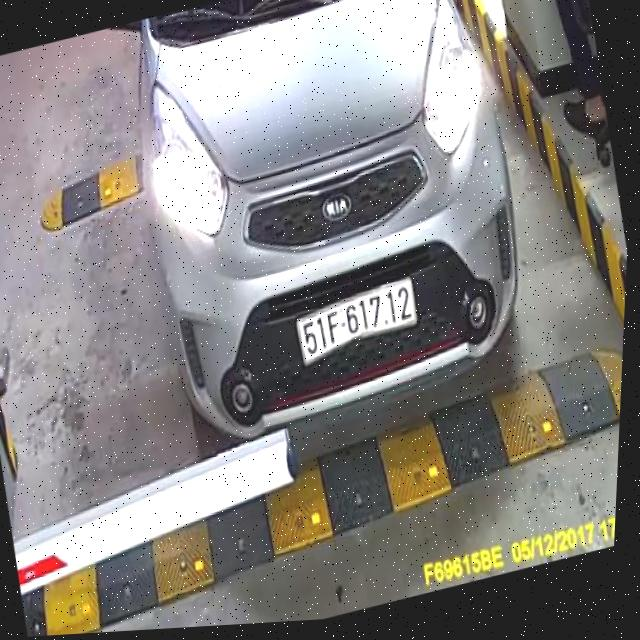car: (85, 0, 560, 468)
plate: (291, 277, 421, 361)
